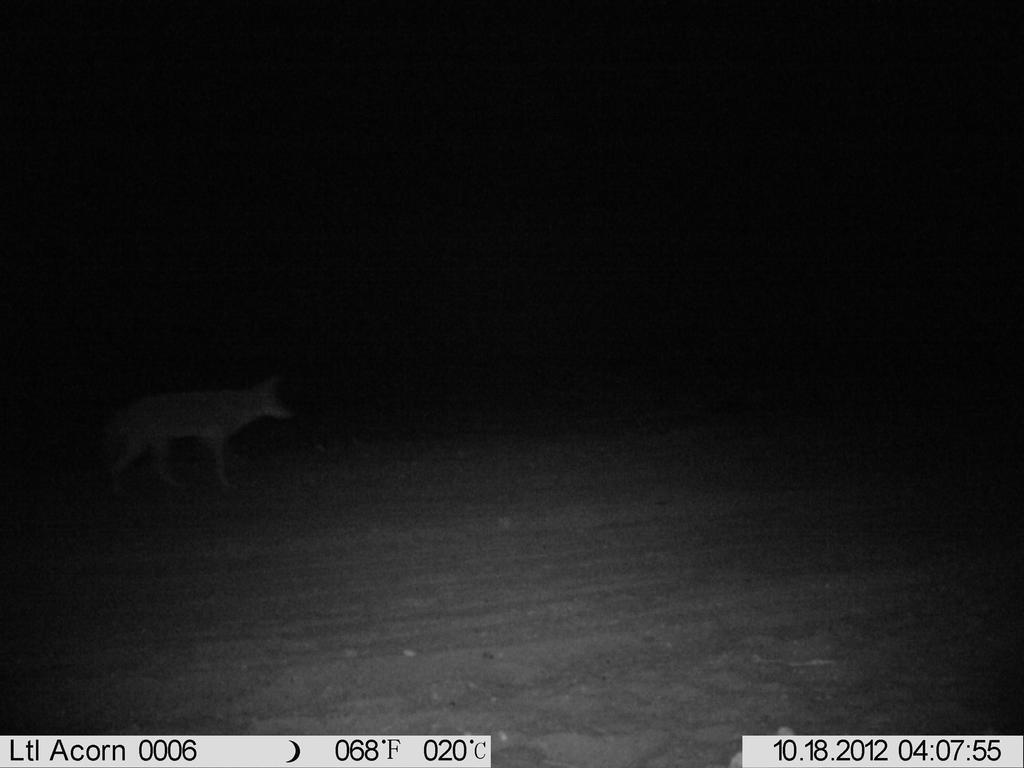coyote: (91, 361, 297, 497)
